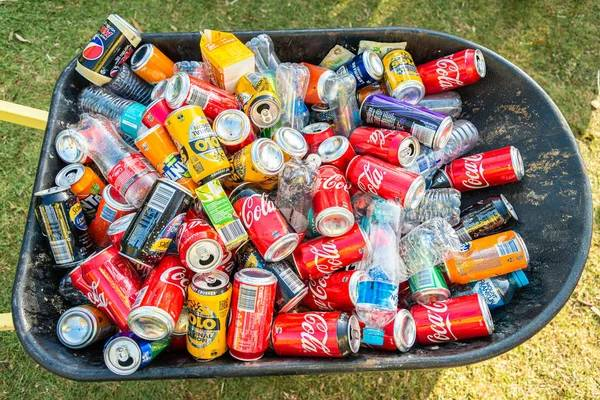metal: (236, 170, 299, 267), (31, 188, 95, 275), (437, 152, 525, 211), (361, 92, 449, 147), (75, 21, 144, 85), (132, 258, 187, 337), (169, 111, 223, 183), (188, 274, 228, 360), (278, 313, 355, 354), (105, 332, 168, 375), (314, 166, 350, 233), (52, 163, 102, 202), (61, 310, 100, 347), (34, 180, 48, 186)
paper: (202, 28, 255, 88), (201, 178, 243, 250)
plastic: (74, 116, 155, 202), (363, 202, 405, 346), (274, 64, 307, 130)
